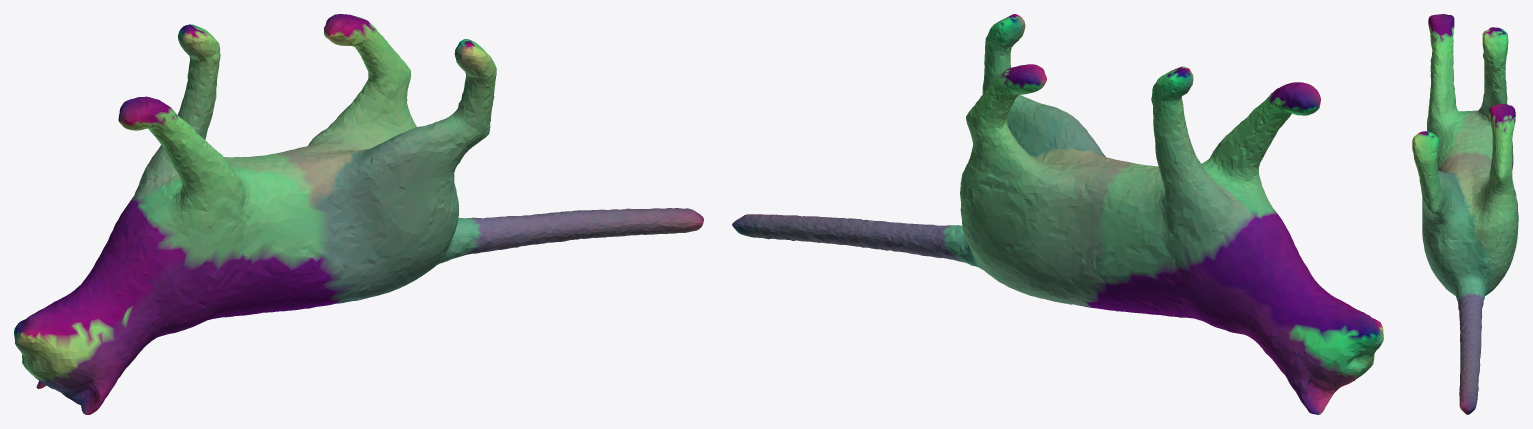
The model's file is cat-19.off.obj.
3 views of the same model, side by side, from view 1: azimuth 30°, elevation 25°; view 2: azimuth 150°, elevation 25°; view 3: azimuth 270°, elevation 25° (orthographic). The views are drawn at different scales.
Size of the model in its own units: 1.43 by 0.6513 by 0.2706.
